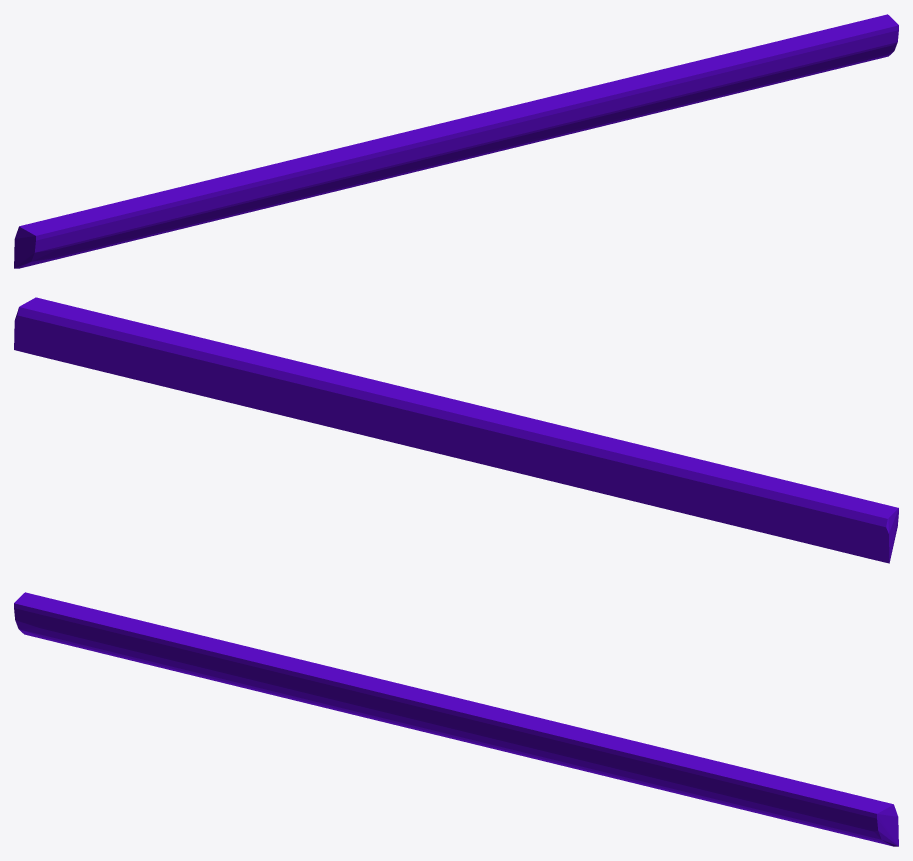
The picture shows the model from 3 angles, top to bottom: view 1: azimuth 30°, elevation 25°; view 2: azimuth 150°, elevation 25°; view 3: azimuth 330°, elevation 25°; orthographic projection.
Bounding box in the file's own units: 11.04 × 0.5152 × 0.3429.
